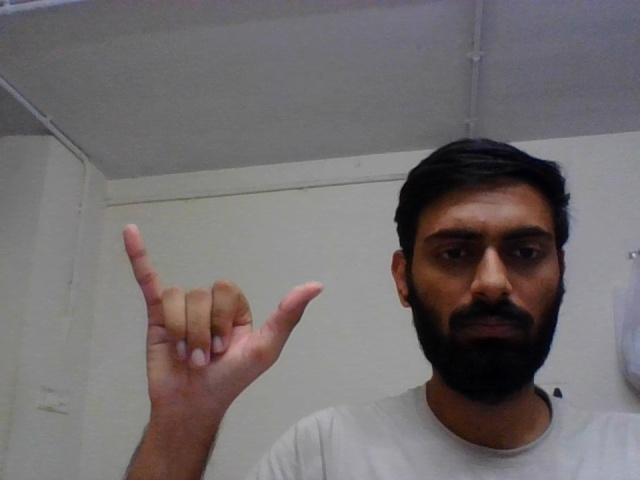Y: (114, 214, 329, 428)
